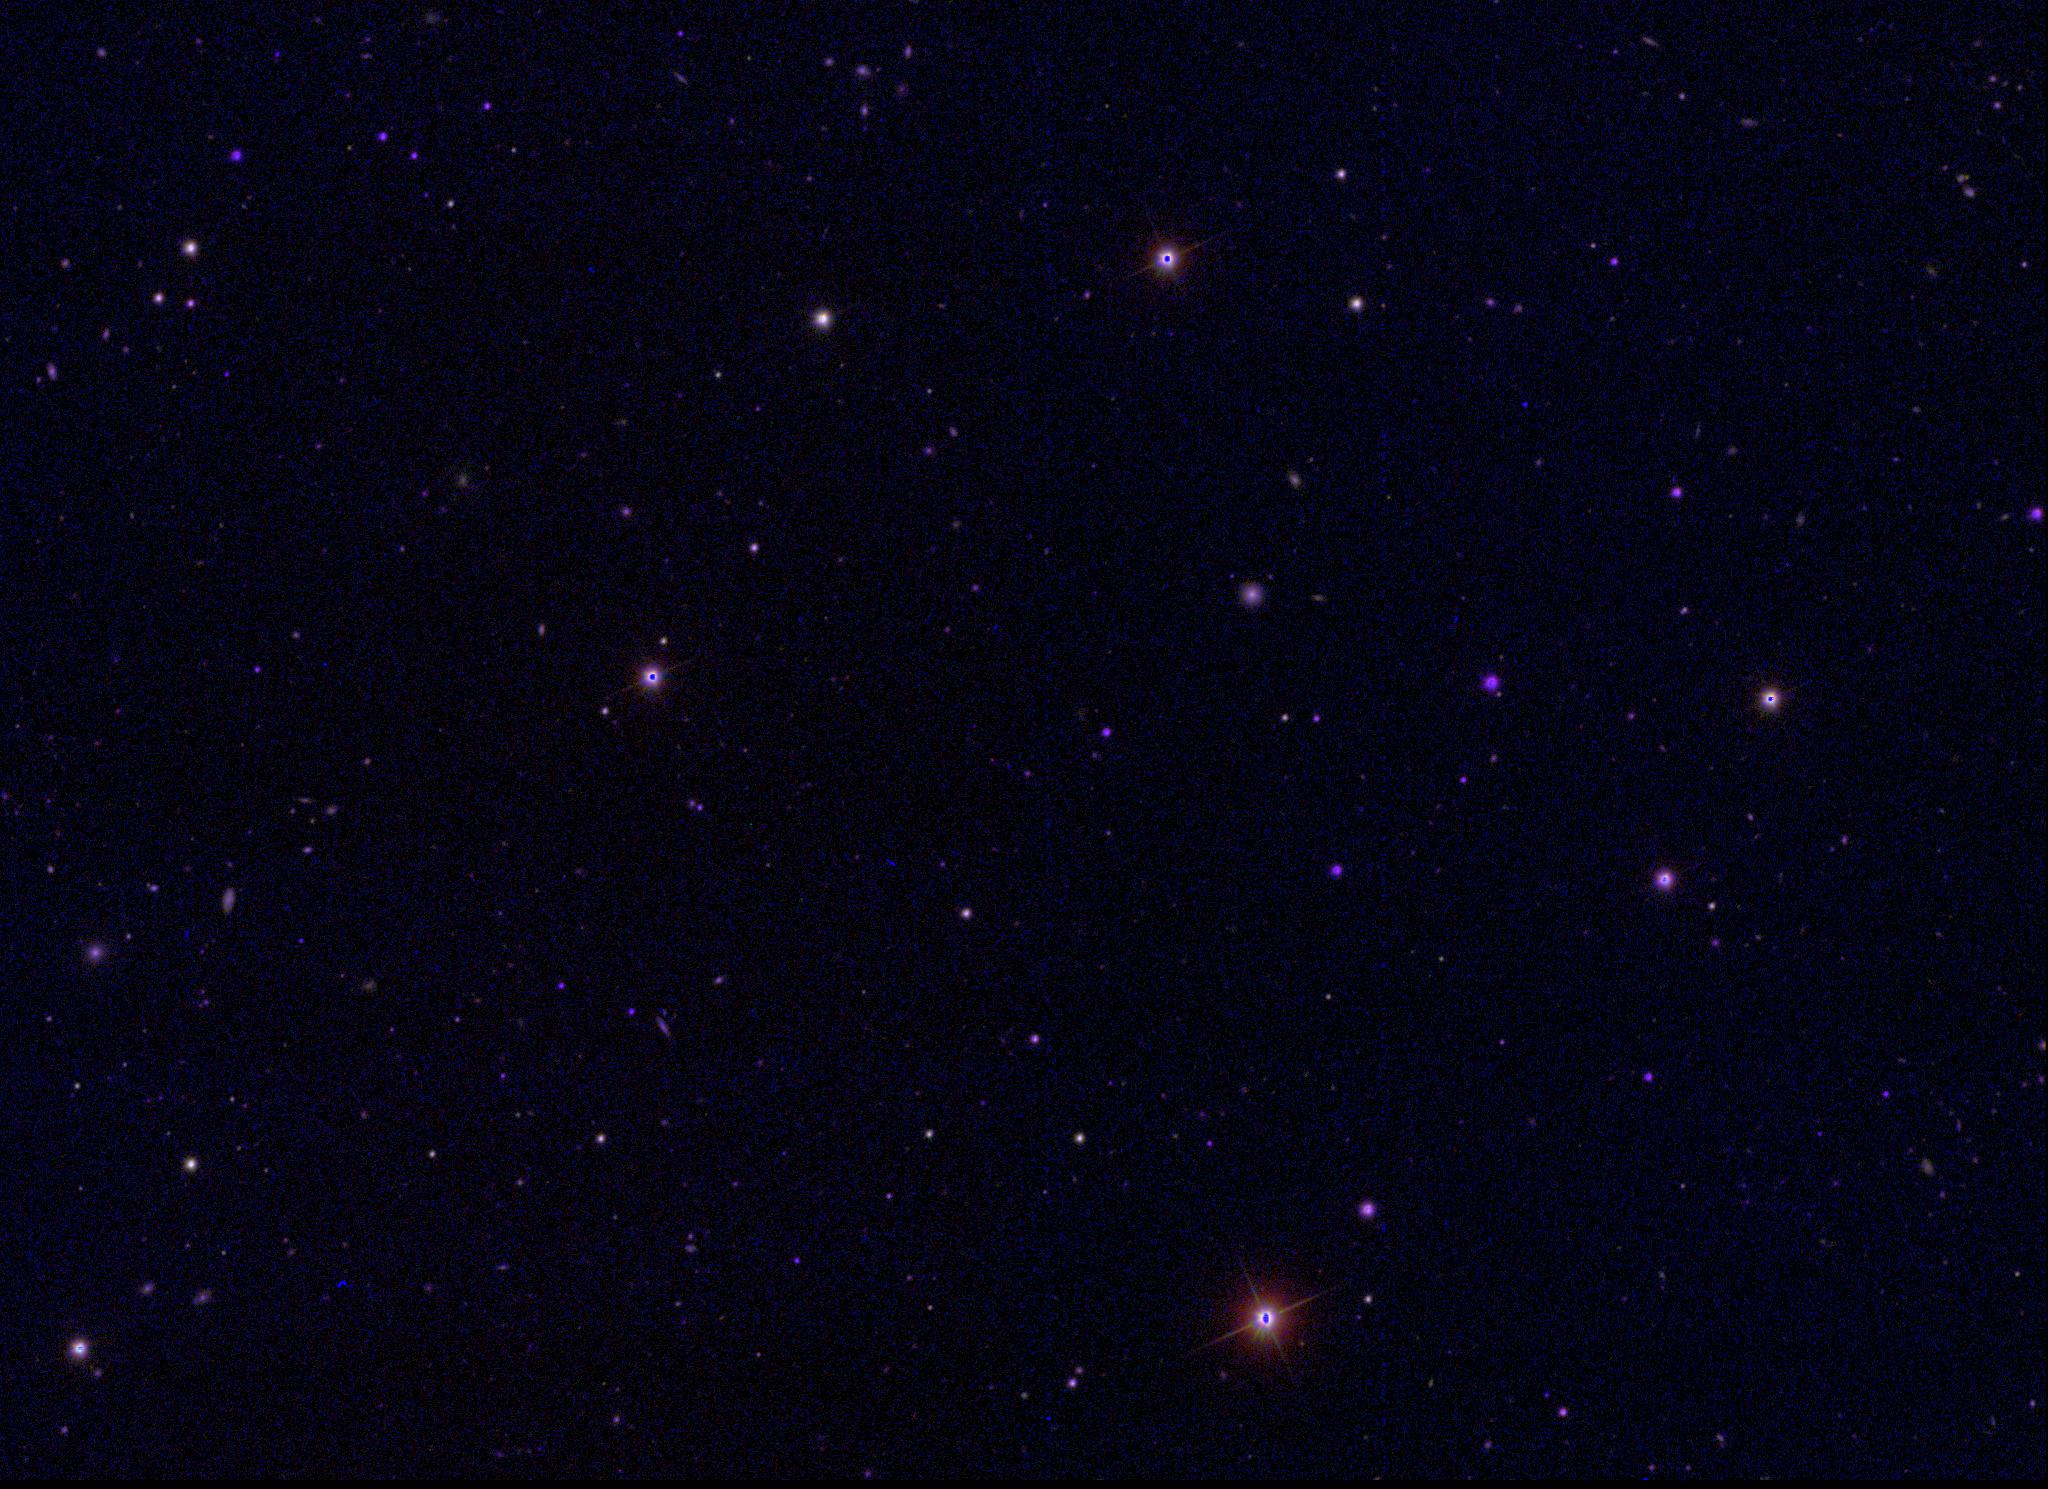L: (1519, 398, 1531, 412)
